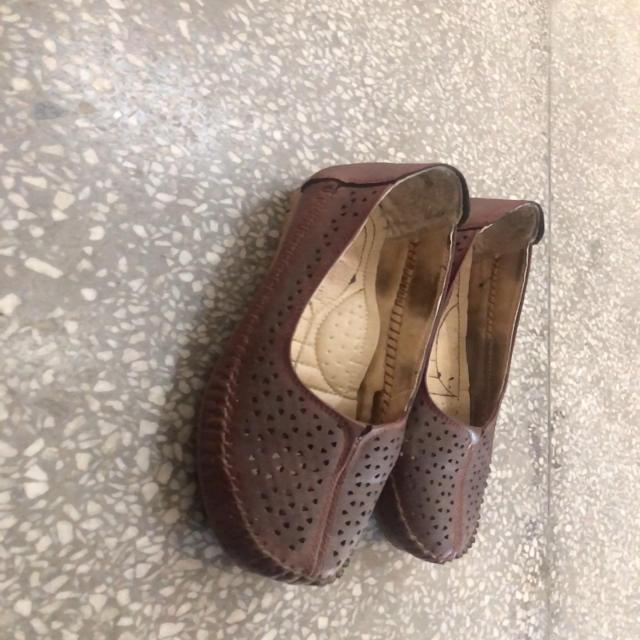shoe: (200, 155, 469, 585), (400, 198, 545, 565)
